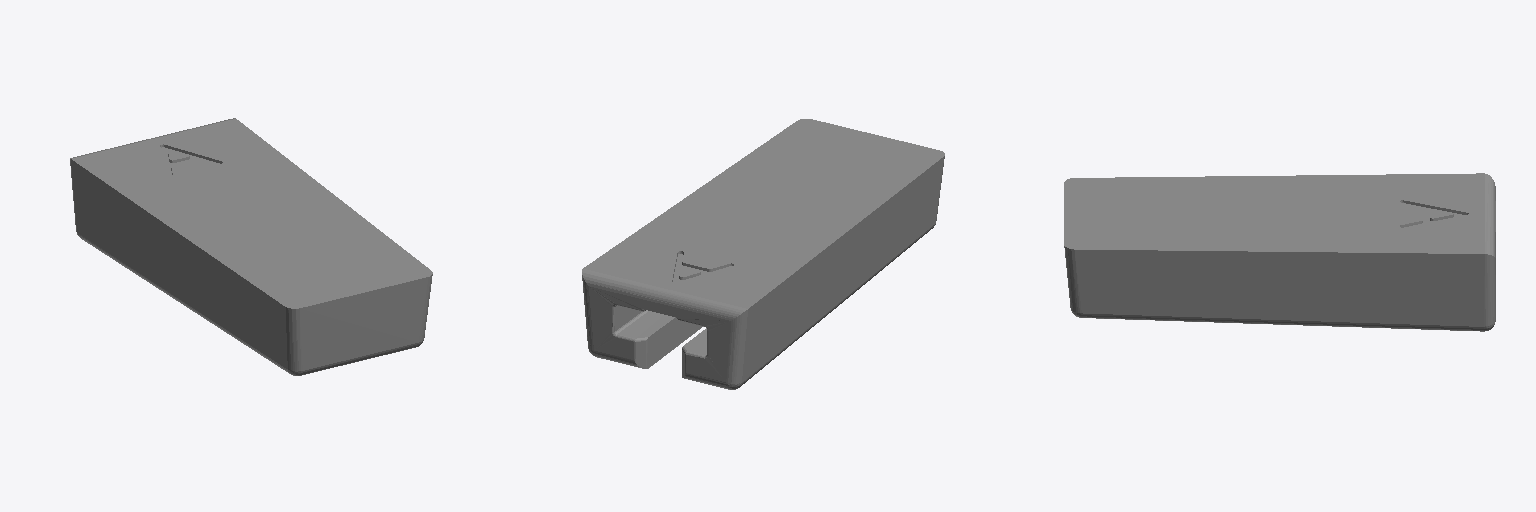
Rendered from right_gripper_r_finger_tip_visuals_mesh_0.obj.
3 views of the same model, side by side, from view 1: azimuth 30°, elevation 25°; view 2: azimuth 150°, elevation 25°; view 3: azimuth 270°, elevation 25° (orthographic).
Size of the model in its own units: 0.0159 by 0.0078 by 0.036.